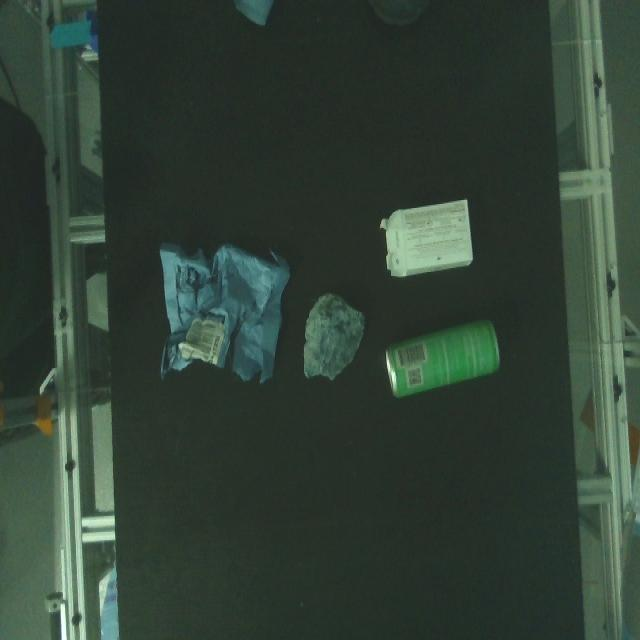non-paper: (379, 316, 506, 401), (301, 286, 369, 382), (367, 0, 434, 29)
paper: (148, 239, 296, 388), (379, 192, 478, 280), (230, 0, 278, 38)
